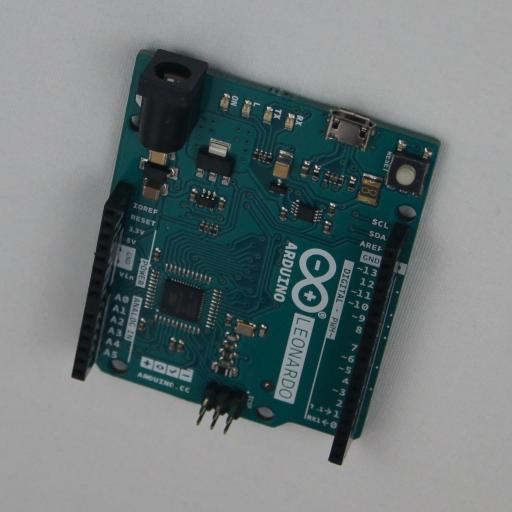Arduino Leonardo: (72, 48, 440, 466)
